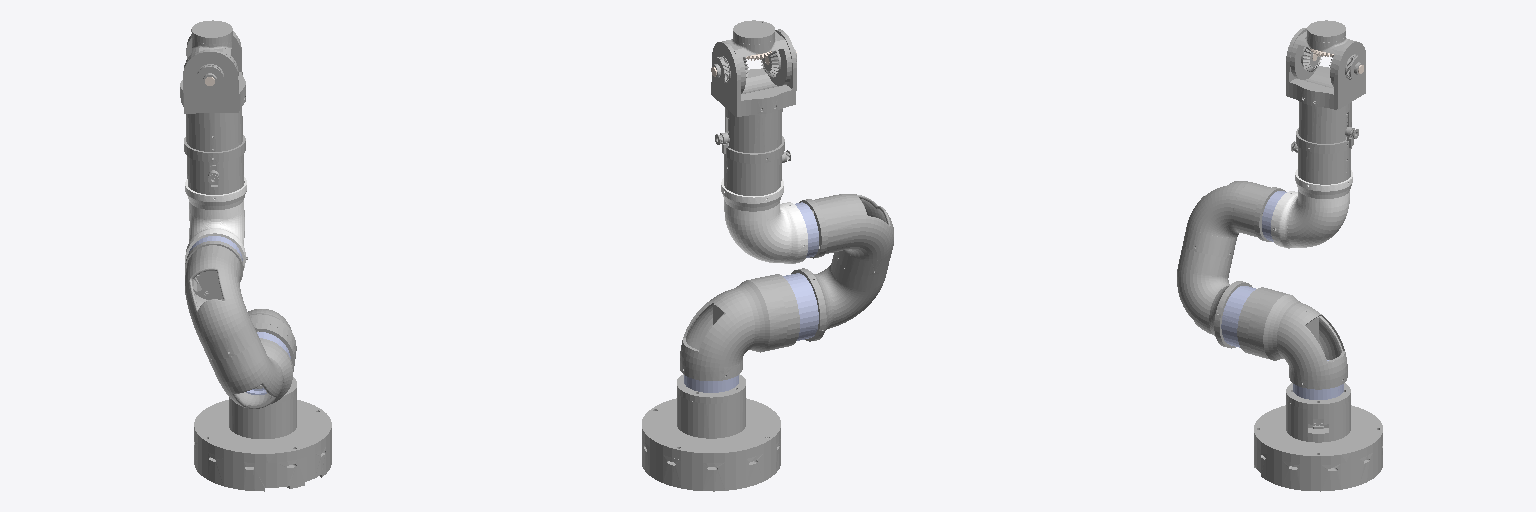
The robot description file, URDF, robot "full-arm-smaller":
<?xml version="1.0" encoding="utf-8"?>
<!--
  WayBionic arm - "full-arm-smaller", mechanical drop of 2026-09-05.

  REBUILT FROM, NOT EQUAL TO, THE SUPPLIED EXPORT.
  sep_05_latest_info/full-arm-smaller.urdf could not be used as delivered:

    * Every one of its 12 links parented straight to the assembly root, so it
      described a star, not a chain. MoveIt has nothing to traverse in a star.
    * Its root link carried the WHOLE assembly as one mesh - 218740 triangles -
      while the same 218740 triangles were repeated across the 12 part meshes.
      Every surface was drawn twice and every pair of links was in permanent
      self-collision.
    * Its joints were exporter noise: 6 fixed, 5 prismatic pinned at
      lower=0 upper=0 effort=0 velocity=0, 1 unbounded continuous. No usable DOF.
    * Link, joint and mesh names contained spaces, which become tf frame names.
    * Worst of all, four of its six link frames sat at the ASSEMBLY ORIGIN,
      1.5-1.8 m away from the part they belonged to. The model renders
      correctly at the zero pose, so the fault is invisible until something
      moves - then each joint swings its child through a metre-plus arc.

  What was done: the root aggregate mesh was dropped, the 12 part meshes were
  re-parented into the serial chain below, and every link frame was moved onto
  its physical pivot with the visual/collision/inertial origins compensated so
  the rendered pose is unchanged. Dropping the aggregate is loss-free - the 12
  parts, placed by their original transforms, reproduce the root mesh bounding
  box to 5.7e-05 m, and this file reproduces the export's rendered pose at the
  zero configuration to within 1.3e-05 m.

  WHAT IS MEASURED vs WHAT IS ASSUMED
  ===================================
  MEASURED - taken unchanged from the export, trustworthy:
    - every link's mesh, colour and inertial block
    - each link's POSE relative to the assembly root, given exactly by the
      export, which makes the re-parenting arithmetic exact:
      T_parent->child = T_root->parent^-1 . T_root->child
    - the axes of joint2..joint5, from the CAD Axis_* coordinate systems

  ASSUMED - INTERIM, UNVERIFIED, pending mechanical:
    - THE CHAIN ORDER ITSELF. Inferred from measured height up the assembly
      and from the CSV "SW Components" column. Mechanical has not stated which
      part drives which. If the order is wrong, so is every reachability and
      collision result computed from this file.
    - joint1's axis. No Axis_Sweep exists in the export; the world vertical is
      used, which is what a base yaw turns about.
    - EVERY JOINT'S PIVOT LOCATION. The export supplies an axis DIRECTION for
      some joints but never a point on it, so each pivot is estimated as the
      midpoint of the closest approach between the parent's and the child's
      geometry - where the two parts physically meet. Measured interface gaps
      were 0.0001-0.067 m, so the parts do touch there, but the exact pivot is
      mechanical's to confirm.
    - EVERY LIMIT. +/-1.5708 rad (+/-90 deg) is a deliberately conservative
      placeholder, not a measurement, chosen to match the convention the
      retired full_arm_mar24.urdf used. effort/velocity likewise.
    - which structural link each fastener/drive part bolts to (see below).

  KNOWN DEGENERACY - THE ARM CANNOT CHANGE ITS TIP HEIGHT
  ======================================================
  All five axes below come out within 1.6 degrees of vertical, and joint3,
  joint4 and joint5 are mutually coaxial. That is not a modelling slip, it is
  what the export contains: the only parts carrying a CAD Axis_* frame are
  3rd joint bend, diff-assembly-pulley and biomed lock mech, which are the
  three bodies of the tool column, all spinning about that column. The export
  contains NO shoulder or elbow BEND axis anywhere - the CSV never defines one.

  Consequence, measured over 200000 sampled configurations: the tool tip
  sweeps a 0.51 m x 0.56 m PLANE at z = 0.695 m, with 6.8 mm of total vertical
  travel. The arm is a SCARA, not a 5-DOF arm. Anything needing a change of
  height - including the Z leg of scripts/ik_xyz_demo.py, which steps 40 mm -
  has no solution and never will until mechanical supplies the bend axes.

  Fixing this needs data, not modelling: ask mechanical for the rotation axis
  of each joint, as a SolidWorks reference axis on the part that rotates.

  Until mechanical confirms the above, do NOT read the RViz workspace as a
  statement of what this arm can actually reach.
-->
<robot name="full-arm-smaller">

  <!-- Dummy root so KDL does not discard base_link's inertia. -->
  <link name="world"/>
  <joint name="world_to_base" type="fixed">
    <parent link="world"/>
    <child link="base_link"/>
    <!-- The STL vertices keep their original SolidWorks assembly coordinates.
         This centres the assembly on the world origin in XY and drops its
         lowest point onto the z=0 ground plane. -->
    <origin xyz="0 0 0" rpy="0 0 0"/>
  </joint>
  <link name="base_link">
    <inertial>
      <origin xyz="0.052227 0.0604364 0.0293091" rpy="1.5708 0 0"/>
      <mass value="1.2997"/>
      <inertia ixx="0.0036992" ixy="-4.7879E-13" ixz="3.5114E-10" iyy="0.007244" iyz="-1.5577E-05" izz="0.0037785"/>
    </inertial>
    <visual>
      <origin xyz="-0.664103 1.42744 -0.903496" rpy="1.5708 0 0"/>
      <geometry>
        <mesh filename="package://waybionic_description/meshes/bottom_base_assembly.STL"/>
      </geometry>
      <material name="">
        <color rgba="0.75294 0.75294 0.75294 1"/>
      </material>
    </visual>
    <collision name="base_link_collision">
      <origin xyz="0.0522358 0.0594201 0.029995" rpy="1.5708 0 0"/>
      <geometry>
        <box size="0.1998 0.0600 0.2000"/>
      </geometry>
    </collision>
  </link>
  <!-- INTERIM LIMITS AND INTERIM TOPOLOGY - UNVERIFIED. Mechanical supplied no
       travel, effort or velocity figures, and no parent/child relationships at
       all. +/-1.5708 rad is a conservative placeholder, NOT a measurement; the
       identical effort/velocity values below are placeholders too - no real
       mechanism has five joints with matching dynamics. Replace all of these,
       and re-check the chain order, once mechanical confirms real values. -->
  <link name="sweep">
    <inertial>
      <origin xyz="0.0163929 0.0756448 -0.160886" rpy="0 0 0"/>
      <mass value="0.26997"/>
      <inertia ixx="6.5782E-05" ixy="1.1446E-05" ixz="-2.7313E-09" iyy="8.2674E-05" iyz="-2.7407E-09" izz="8.8451E-05"/>
    </inertial>
    <visual>
      <origin xyz="-0.653777 -0.859305 -1.32289" rpy="0 0 0"/>
      <geometry>
        <mesh filename="package://waybionic_description/meshes/sweep.STL"/>
      </geometry>
      <material name="">
        <color rgba="0.75294 0.75294 0.75294 1"/>
      </material>
    </visual>
    <collision name="sweep_collision">
      <origin xyz="0.0148926 0.0721225 -0.169349" rpy="0 0 0"/>
      <geometry>
        <box size="0.0738 0.1785 0.2713"/>
      </geometry>
    </collision>
  </link>
  <!-- joint1: base yaw. Driven by the sweep gearbox; axis derived from the world
       vertical because the export defines no Axis_Sweep. -->
  <joint name="joint1" type="revolute">
    <origin xyz="0.0538204 0.0844065 0.0936804" rpy="-3.14159 0 -1.0472"/>
    <parent link="base_link"/>
    <child link="sweep"/>
    <axis xyz="0 -7.34641e-06 -1"/>
    <limit lower="-1.5708" upper="1.5708" effort="10" velocity="1.0"/>
  </joint>

  <link name="shoulder">
    <inertial>
      <origin xyz="-0.00833119 0.0644138 0.0215281" rpy="0 0 0"/>
      <mass value="0.19918"/>
      <inertia ixx="0.00044506" ixy="0.00011586" ixz="-4.3871E-08" iyy="0.00034473" iyz="-4.7682E-08" izz="0.00051429"/>
    </inertial>
    <visual>
      <origin xyz="-0.824841 -0.818826 -1.32207" rpy="0 0 0"/>
      <geometry>
        <mesh filename="package://waybionic_description/meshes/shouldersplit.STL"/>
      </geometry>
      <material name="">
        <color rgba="0.75294 0.75294 0.75294 1"/>
      </material>
    </visual>
    <collision name="shoulder_collision">
      <origin xyz="-0.00976251 0.072516 0.0215282" rpy="0 0 0"/>
      <geometry>
        <box size="0.1224 0.1325 0.0800"/>
      </geometry>
    </collision>
  </link>
  <!-- joint2: shoulder. Axis is the nema23 motor axis - the CSV lists that motor's
       components as nema23_w_shoulder / j2_nema23_gearbox. -->
  <joint name="joint2" type="revolute">
    <origin xyz="0.00732929 0.162696 -0.255115" rpy="-3.14158 1.1744 2.6739"/>
    <parent link="sweep"/>
    <child link="shoulder"/>
    <axis xyz="0.92246 0 0.386093"/>
    <limit lower="-1.5708" upper="1.5708" effort="10" velocity="1.0"/>
  </joint>

  <link name="elbow">
    <inertial>
      <origin xyz="0.0652637 0.0704856 -0.00263955" rpy="0 0 0"/>
      <mass value="0.17976"/>
      <inertia ixx="0.00030235" ixy="-7.4527E-05" ixz="-9.963E-10" iyy="0.00037544" iyz="-5.4808E-10" izz="0.00040872"/>
    </inertial>
    <visual>
      <origin xyz="-0.00249731 0.0319966 -0.0026393" rpy="0 0 0"/>
      <geometry>
        <mesh filename="package://waybionic_description/meshes/third_joint_bend.STL"/>
      </geometry>
      <material name="">
        <color rgba="1 1 1 1"/>
      </material>
    </visual>
    <collision name="elbow_collision">
      <origin xyz="0.0641974 0.0727466 -0.0026393" rpy="0 0 0"/>
      <geometry>
        <box size="0.1365 0.1135 0.0900"/>
      </geometry>
    </collision>
  </link>
  <!-- joint3: elbow bend. Axis from the CAD Axis_3rd joint bend frame. -->
  <joint name="joint3" type="revolute">
    <origin xyz="-0.0248502 -0.0097306 0.00472633" rpy="3.14159 -0.3685 0"/>
    <parent link="shoulder"/>
    <child link="elbow"/>
    <axis xyz="1 0 0"/>
    <limit lower="-1.5708" upper="1.5708" effort="10" velocity="1.0"/>
  </joint>

  <link name="forearm">
    <inertial>
      <origin xyz="0.000881305 0.114186 -0.0412555" rpy="0 0 0"/>
      <mass value="0.86499"/>
      <inertia ixx="0.00088427" ixy="3.205E-05" ixz="-3.2838E-07" iyy="0.00094021" iyz="-2.3104E-07" izz="0.0010963"/>
    </inertial>
    <visual>
      <origin xyz="-0.684809 -0.00415398 -1.36196" rpy="0 0 0"/>
      <geometry>
        <mesh filename="package://waybionic_description/meshes/diff_assembly_pulley.STL"/>
      </geometry>
      <material name="">
        <color rgba="0.75294 0.75294 0.75294 1"/>
      </material>
    </visual>
    <collision name="forearm_collision">
      <origin xyz="0.000885343 0.117867 -0.0412673" rpy="0 0 0"/>
      <geometry>
        <box size="0.1274 0.2477 0.0953"/>
      </geometry>
    </collision>
  </link>
  <!-- joint4: differential/forearm roll. Axis from Axis_diff-assembly-pulley. -->
  <joint name="joint4" type="revolute">
    <origin xyz="0.126943 0.0836319 -0.0439034" rpy="-3.14159 -3.3663e-05 1.5708"/>
    <parent link="elbow"/>
    <child link="forearm"/>
    <axis xyz="0 1 0"/>
    <limit lower="-1.5708" upper="1.5708" effort="10" velocity="1.0"/>
  </joint>

  <link name="tool">
    <inertial>
      <origin xyz="-0.0261854 -0.00183018 0.0147985" rpy="0 0 0"/>
      <mass value="0.053298"/>
      <inertia ixx="1.3634E-05" ixy="-8.735E-22" ixz="-1.8806E-08" iyy="1.8285E-05" iyz="1.1597E-07" izz="1.3317E-05"/>
    </inertial>
    <visual>
      <origin xyz="-0.0256756 -0.0265892 0.0148688" rpy="0 0 0"/>
      <geometry>
        <mesh filename="package://waybionic_description/meshes/biomed_lock_mech.STL"/>
      </geometry>
      <material name="">
        <color rgba="0.75294 0.75294 0.75294 1"/>
      </material>
    </visual>
    <collision name="tool_collision">
      <origin xyz="-0.0261702 -0.00899661 0.014685" rpy="0 0 0"/>
      <geometry>
        <box size="0.0599 0.0381 0.0599"/>
      </geometry>
    </collision>
  </link>
  <!-- joint5: tool lock. Axis from Axis_biomed lock mech. -->
  <joint name="joint5" type="revolute">
    <origin xyz="0.0251063 0.240781 -0.0220181" rpy="0.0529983 -1.16738 -0.0487647"/>
    <parent link="forearm"/>
    <child link="tool"/>
    <axis xyz="0.0191131 -0.999784 0.00814643"/>
    <limit lower="-1.5708" upper="1.5708" effort="10" velocity="1.0"/>
  </joint>

  <!-- ===== Non-structural parts =====
       Drive and fastener geometry, carried so the arm still renders complete.
       No collision volume and no DOF: they are cosmetic here.
       Each is bolted to the structural link whose placed centroid is nearest.
       CAVEAT: m3 and heat_set_insert are MULTI-INSTANCE meshes - one mesh holds
       every screw and insert in the assembly, including ones that physically
       belong to distal links. They ride the sweep link, so they will not track
       the arm correctly once the distal joints move. Ask mechanical to export
       fasteners per-link, or to omit them. -->
  <link name="stepper">
    <inertial>
      <origin xyz="0.64313 0.8998 1.2835" rpy="0 0 0"/>
      <mass value="0.45705"/>
      <inertia ixx="0.00037382" ixy="1.0743E-07" ixz="9.7233E-06" iyy="0.0005475" iyz="2.5993E-07" izz="0.00038353"/>
    </inertial>
    <visual>
      <origin xyz="0 0 0" rpy="0 0 0"/>
      <geometry>
        <mesh filename="package://waybionic_description/meshes/stepper.STL"/>
      </geometry>
      <material name="">
        <color rgba="0.75294 0.75294 0.75294 1"/>
      </material>
    </visual>
  </link>
  <joint name="stepper_mount" type="fixed">
    <origin xyz="-0.0631287 1.48217 0.83867" rpy="-1.57079 -3.67317e-06 -2.618"/>
    <parent link="sweep"/>
    <child link="stepper"/>
  </joint>

  <link name="nema23">
    <inertial>
      <origin xyz="0.10166 0.070102 0.0018368" rpy="0 0 0"/>
      <mass value="1.0827"/>
      <inertia ixx="0.0014882" ixy="-0.00023608" ixz="-5.2655E-05" iyy="0.0014342" iyz="-4.7983E-05" izz="0.0015666"/>
    </inertial>
    <visual>
      <origin xyz="0 0 0" rpy="0 0 0"/>
      <geometry>
        <mesh filename="package://waybionic_description/meshes/nema23.STL"/>
      </geometry>
      <material name="">
        <color rgba="0.75294 0.75294 0.75294 1"/>
      </material>
    </visual>
  </link>
  <joint name="nema23_mount" type="fixed">
    <origin xyz="0.0208635 0.0138745 -0.0531229" rpy="-1.5708 6.55747e-06 1.1031"/>
    <parent link="sweep"/>
    <child link="nema23"/>
  </joint>

  <link name="outerring">
    <inertial>
      <origin xyz="-0.0080961 0.027364 -0.026357" rpy="0 0 0"/>
      <mass value="0.29137"/>
      <inertia ixx="0.00023769" ixy="1.4814E-05" ixz="1.3088E-12" iyy="0.00026688" iyz="-1.3596E-12" izz="0.00036814"/>
    </inertial>
    <visual>
      <origin xyz="0 0 0" rpy="0 0 0"/>
      <geometry>
        <mesh filename="package://waybionic_description/meshes/outerring.STL"/>
      </geometry>
      <material name="">
        <color rgba="0.79216 0.81961 0.93333 1"/>
      </material>
    </visual>
  </link>
  <joint name="outerring_mount" type="fixed">
    <origin xyz="0.0727054 0.116482 -0.121794" rpy="-1.5708 0.396367 -0.467733"/>
    <parent link="sweep"/>
    <child link="outerring"/>
  </joint>

  <link name="heat_set_insert">
    <inertial>
      <origin xyz="0.02981 -0.0047361 0.051895" rpy="0 0 0"/>
      <mass value="0.00011545"/>
      <inertia ixx="3.5199E-10" ixy="6.9974E-13" ixz="-5.5737E-14" iyy="3.5037E-10" iyz="-2.0825E-14" izz="3.5866E-10"/>
    </inertial>
    <visual>
      <origin xyz="0 0 0" rpy="0 0 0"/>
      <geometry>
        <mesh filename="package://waybionic_description/meshes/heat_set_insert.STL"/>
      </geometry>
      <material name="">
        <color rgba="0.79216 0.81961 0.93333 1"/>
      </material>
    </visual>
  </link>
  <joint name="heat_set_insert_mount" type="fixed">
    <origin xyz="0.0555045 0.0338746 -0.024123" rpy="-3.14159 8.0726e-07 3.03149"/>
    <parent link="sweep"/>
    <child link="heat_set_insert"/>
  </joint>

  <link name="m3">
    <inertial>
      <origin xyz="-0.060837 -0.13261 -0.0085639" rpy="0 0 0"/>
      <mass value="0.00029834"/>
      <inertia ixx="1.068E-08" ixy="-2.7807E-09" ixz="-8.3275E-11" iyy="4.0957E-09" iyz="-2.2672E-10" izz="9.2816E-09"/>
    </inertial>
    <visual>
      <origin xyz="0 0 0" rpy="0 0 0"/>
      <geometry>
        <mesh filename="package://waybionic_description/meshes/m3.STL"/>
      </geometry>
      <material name="">
        <color rgba="0.75294 0.75294 0.75294 1"/>
      </material>
    </visual>
  </link>
  <joint name="m3_mount" type="fixed">
    <origin xyz="0.0174887 0.0609183 -0.275093" rpy="-1.60049 0.350493 -2.0487"/>
    <parent link="sweep"/>
    <child link="m3"/>
  </joint>

  <link name="bevel_gear">
    <inertial>
      <origin xyz="-0.023575 -0.00015203 0.00068011" rpy="0 0 0"/>
      <mass value="0.042026"/>
      <inertia ixx="9.9802E-06" ixy="-4.8977E-09" ixz="4.0392E-09" iyy="5.3605E-06" iyz="-8.7432E-07" izz="6.9939E-06"/>
    </inertial>
    <visual>
      <origin xyz="0 0 0" rpy="0 0 0"/>
      <geometry>
        <mesh filename="package://waybionic_description/meshes/bevel_gear.STL"/>
      </geometry>
      <material name="">
        <color rgba="1 0.94902 0.9098 1"/>
      </material>
    </visual>
  </link>
  <joint name="bevel_gear_mount" type="fixed">
    <origin xyz="-0.0255987 -0.0506903 0.0148612" rpy="1.57081 1.3833e-05 -1.57079"/>
    <parent link="tool"/>
    <child link="bevel_gear"/>
  </joint>

</robot>

--- What the picture shows (computed from the rendered views, not written in the file) ---
The picture shows the robot from 3 angles, left to right: view 1: azimuth 30°, elevation 25°; view 2: azimuth 150°, elevation 25°; view 3: azimuth 270°, elevation 25°; orthographic projection.
Robot: full-arm-smaller — 13 links, 12 joints (5 revolute, 7 fixed); root link world; default pose: every joint at zero.
Visible links, largest first — view 1: forearm, base_link, shoulder, nema23, stepper, elbow, tool, outerring; view 2: nema23, forearm, base_link, elbow, shoulder, stepper, outerring, tool; view 3: nema23, forearm, base_link, elbow, shoulder, stepper, outerring, tool.
Link boxes in pixels (box(x1,y1,x2,y2)): forearm: box(180, 31, 245, 198); base_link: box(194, 400, 331, 491); shoulder: box(185, 245, 257, 359); nema23: box(208, 309, 296, 408); stepper: box(185, 241, 296, 438); elbow: box(185, 177, 246, 270); tool: box(191, 20, 232, 43); outerring: box(189, 236, 290, 394); nema23: box(680, 252, 888, 380); forearm: box(711, 29, 796, 195); base_link: box(642, 398, 780, 491); elbow: box(721, 178, 807, 263); shoulder: box(814, 194, 893, 275); stepper: box(677, 199, 827, 438); outerring: box(684, 202, 818, 392); tool: box(733, 20, 774, 44); nema23: box(1177, 247, 1347, 389); forearm: box(1286, 28, 1365, 184); base_link: box(1254, 405, 1382, 491); elbow: box(1271, 169, 1352, 248); shoulder: box(1182, 181, 1270, 257); stepper: box(1254, 187, 1350, 442); outerring: box(1221, 191, 1343, 399); tool: box(1307, 20, 1345, 42).
Bounding box of the posed robot: 0.3044 × 0.3189 × 0.7061 m (x, y, z).
Meshes: 12 distinct files referenced, 12 mesh visuals loaded (12 binary STL).
